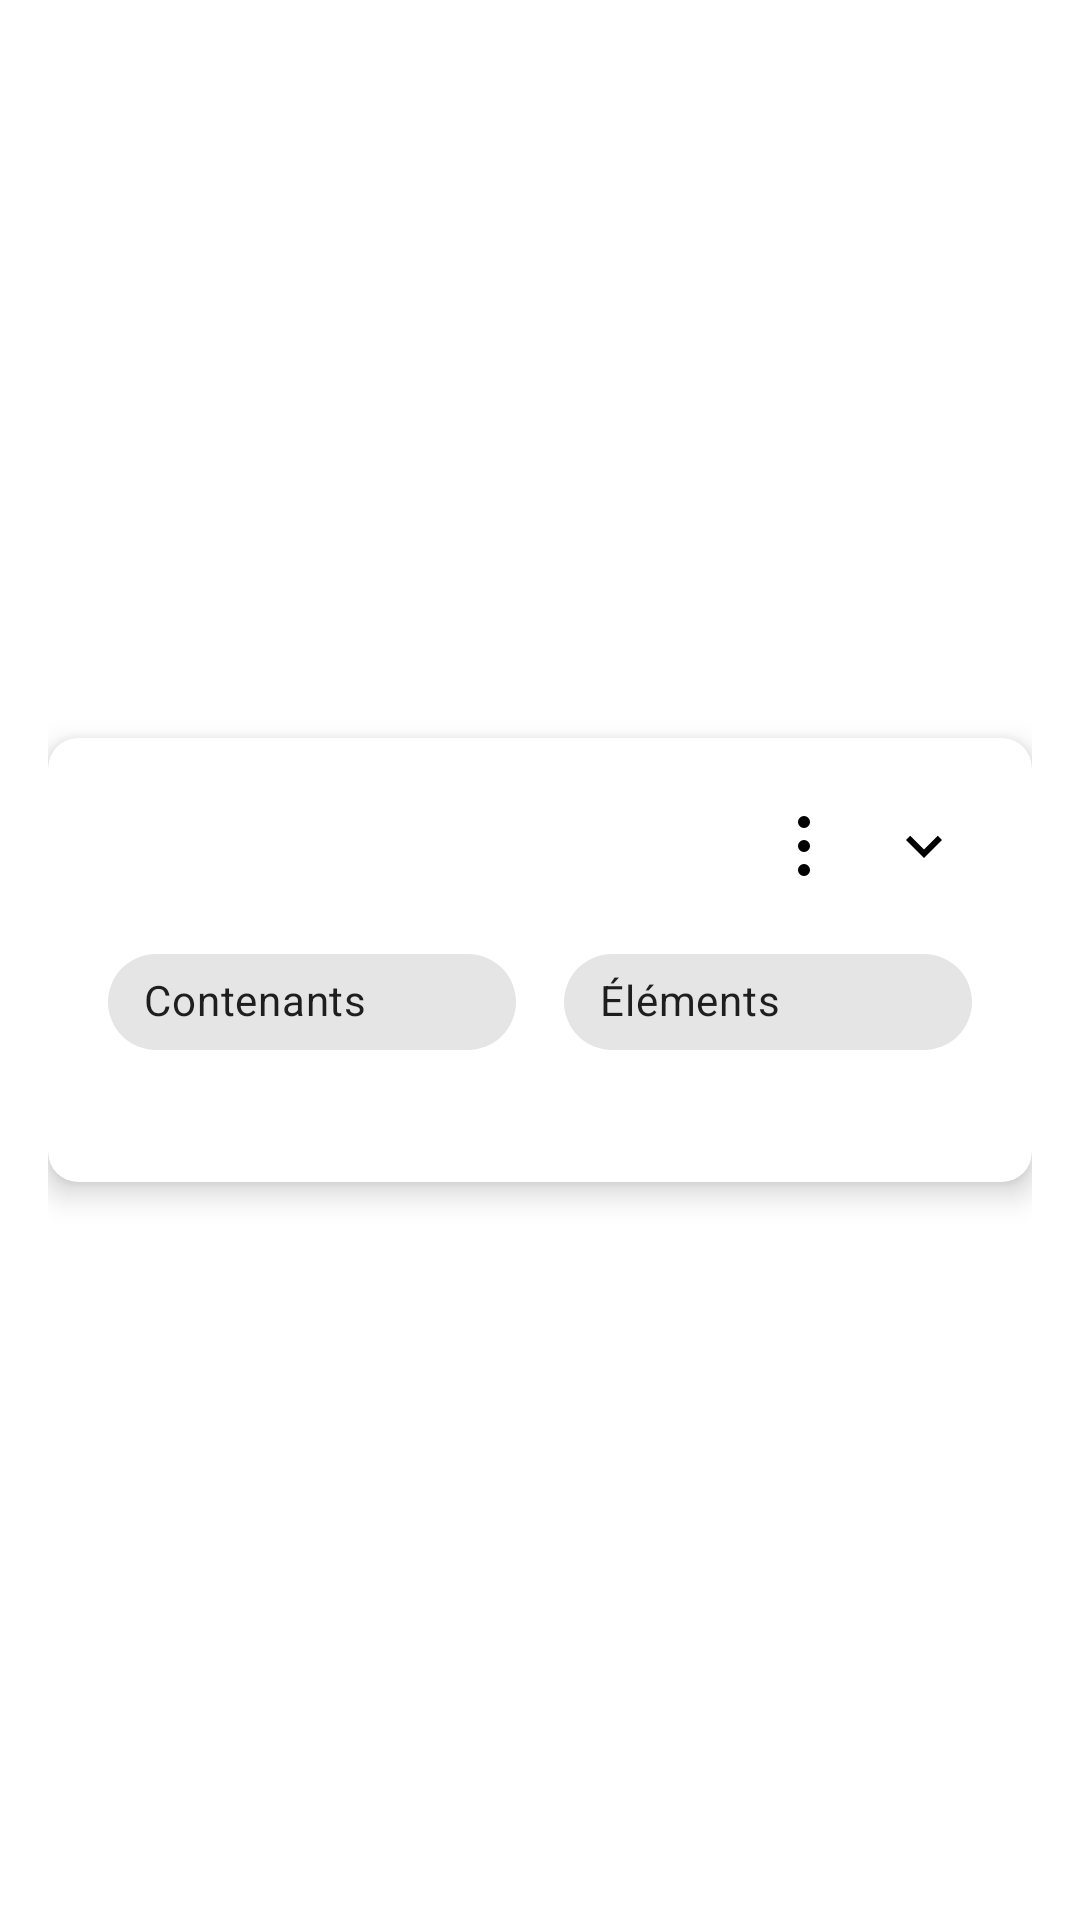

Point at icon controls on the screen. Image size 1080 × 1920, points as (x,y).
chevron down: (924,847)
more vertical: (804,846)
